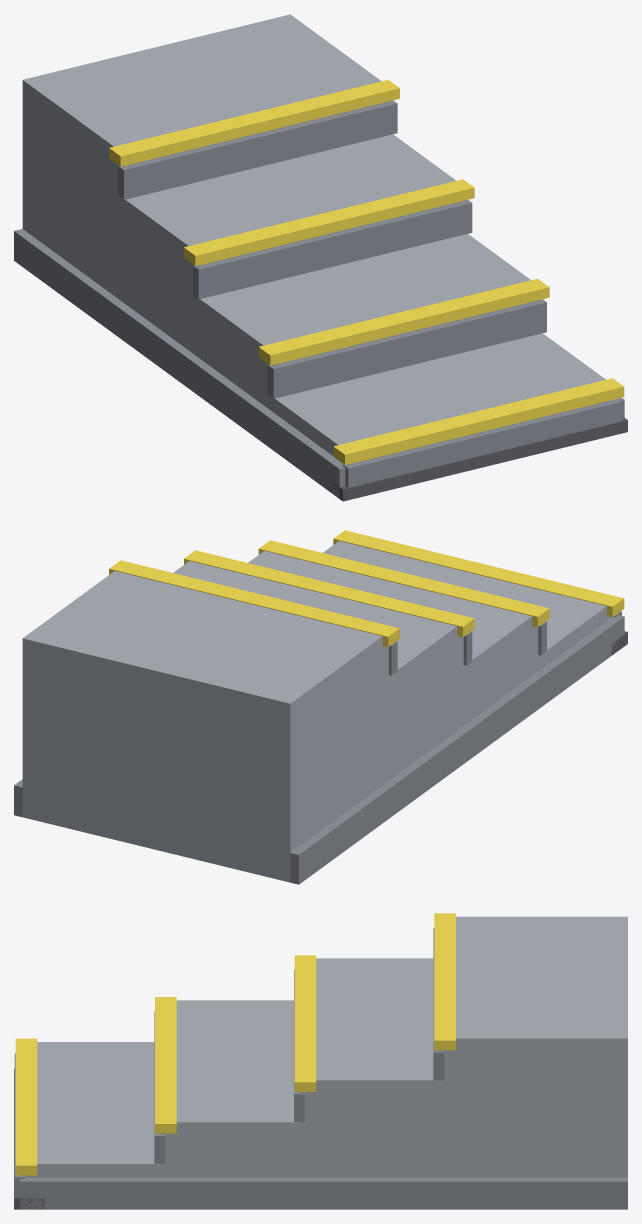
Rendered from stairs.glb.
The picture shows the model from 3 angles, top to bottom: view 1: azimuth 30°, elevation 25°; view 2: azimuth 150°, elevation 25°; view 3: azimuth 270°, elevation 25°; orthographic projection. The views are drawn at different scales.
Visible parts, largest first — view 1: stairs; view 2: stairs; view 3: stairs.
Boxes of the visible parts, x1,y1,x2,y2 form: stairs: (14,14,627,501); stairs: (14,530,627,884); stairs: (14,913,627,1209).
Size of the model in its own units: 1 by 0.6025 by 2.
